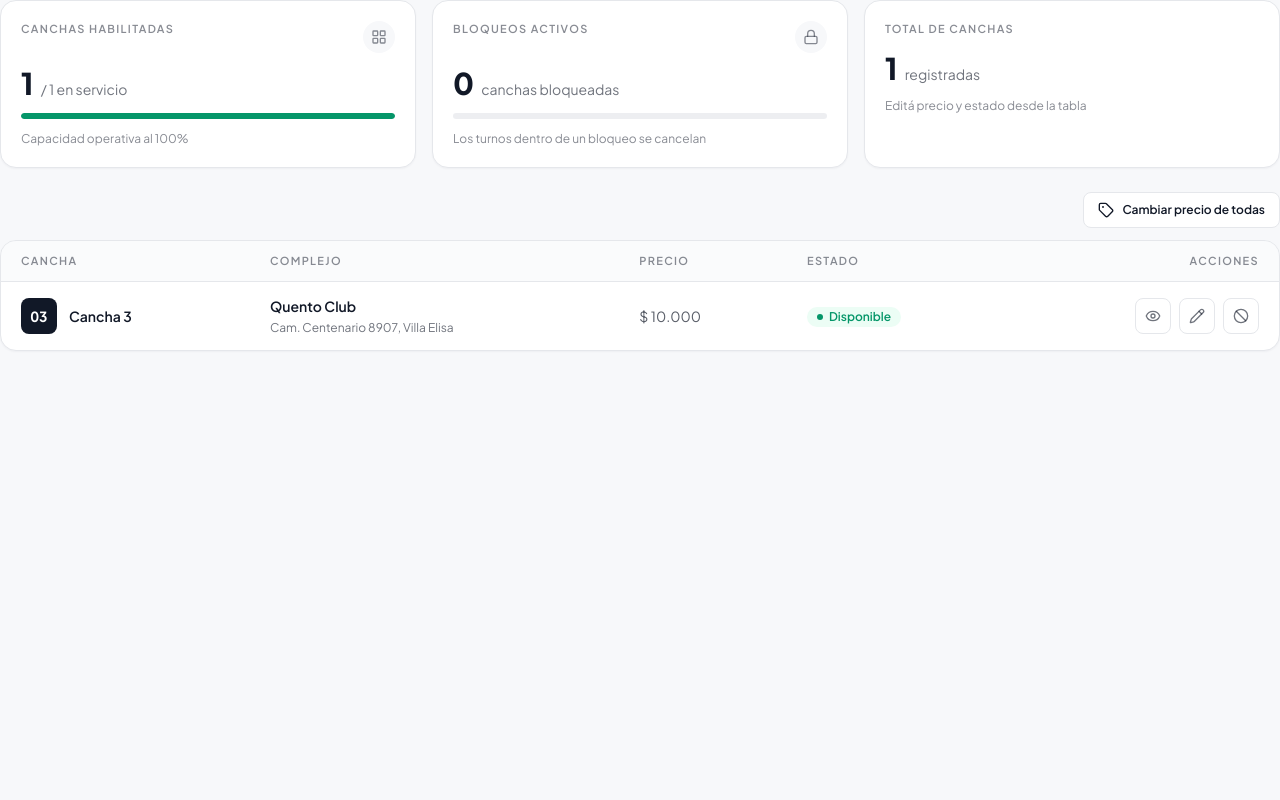
Test: CourtsTable › programa un bloqueo a futuro sin cambiar el estado actual de la cancha
Click the button named "Poner fuera de servicio la cancha 3": (1241, 316) [1223,298,1259,334]
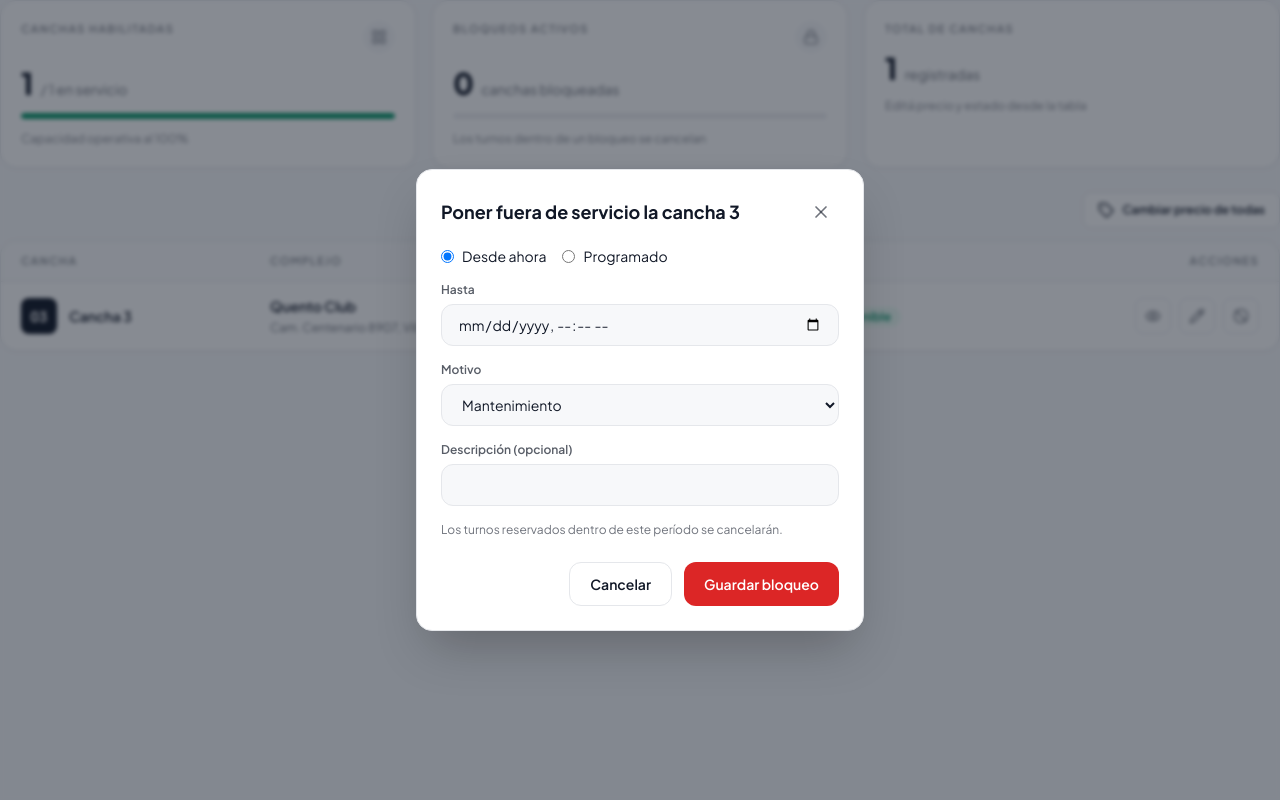
Click the radio button labelled "Programado": (569, 256) [562,250,575,262]
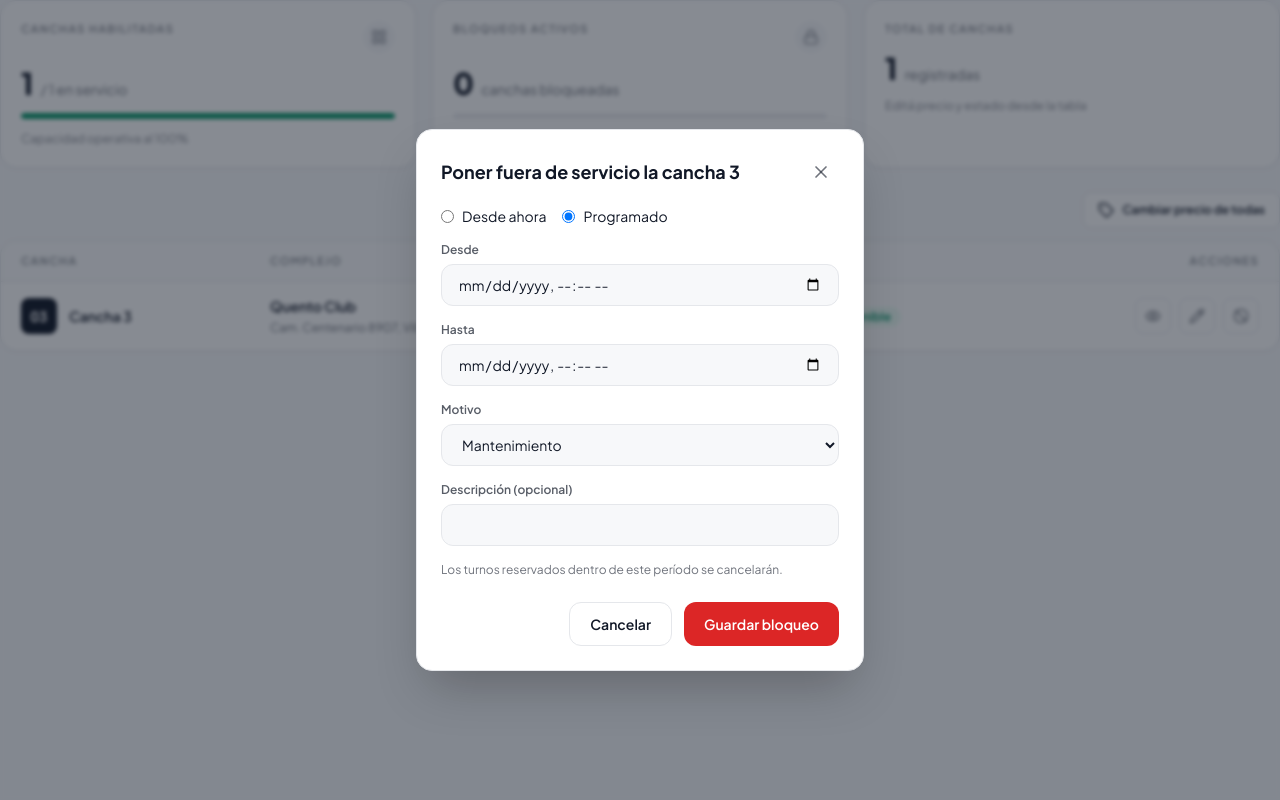
In the field labelled "Desde": (640, 285) [441,264,839,306], type "2099-01-01T09:00"
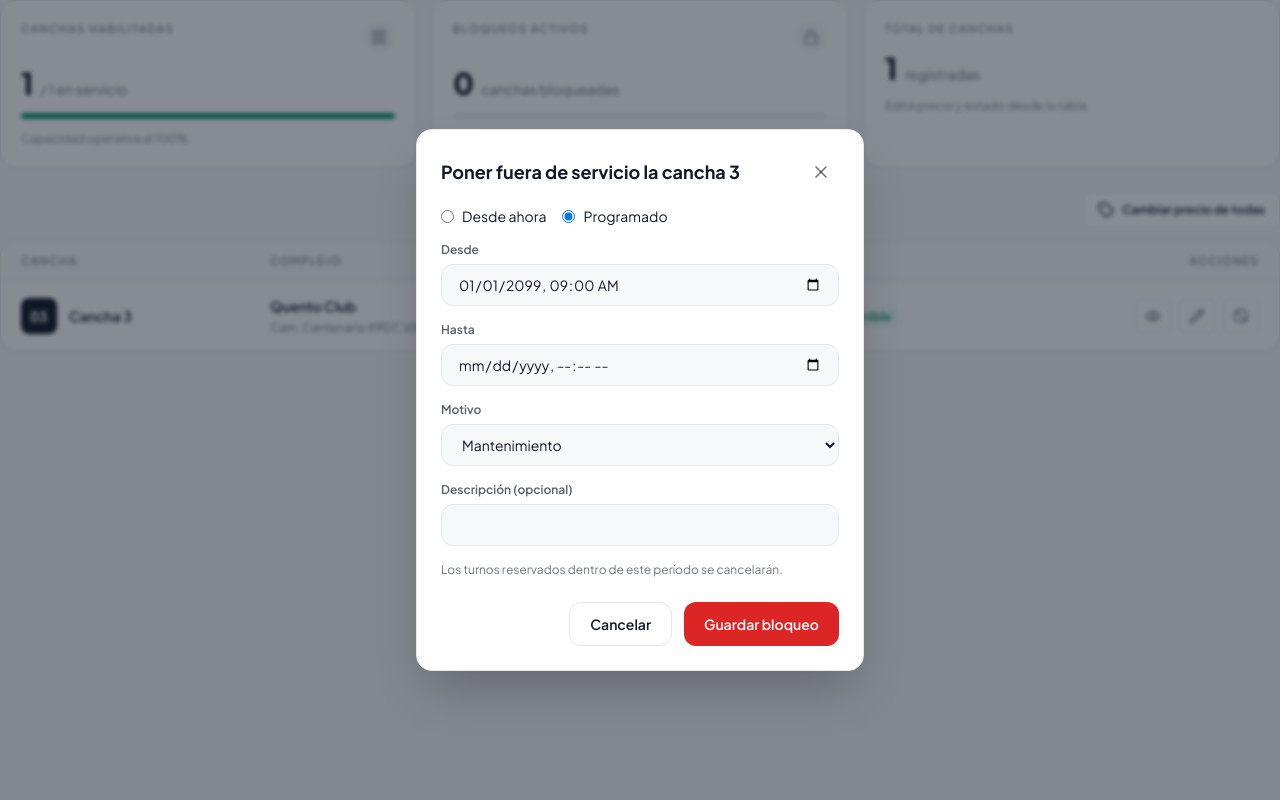
In the field labelled "Hasta": (640, 365) [441,344,839,386], type "2099-01-01T12:00"
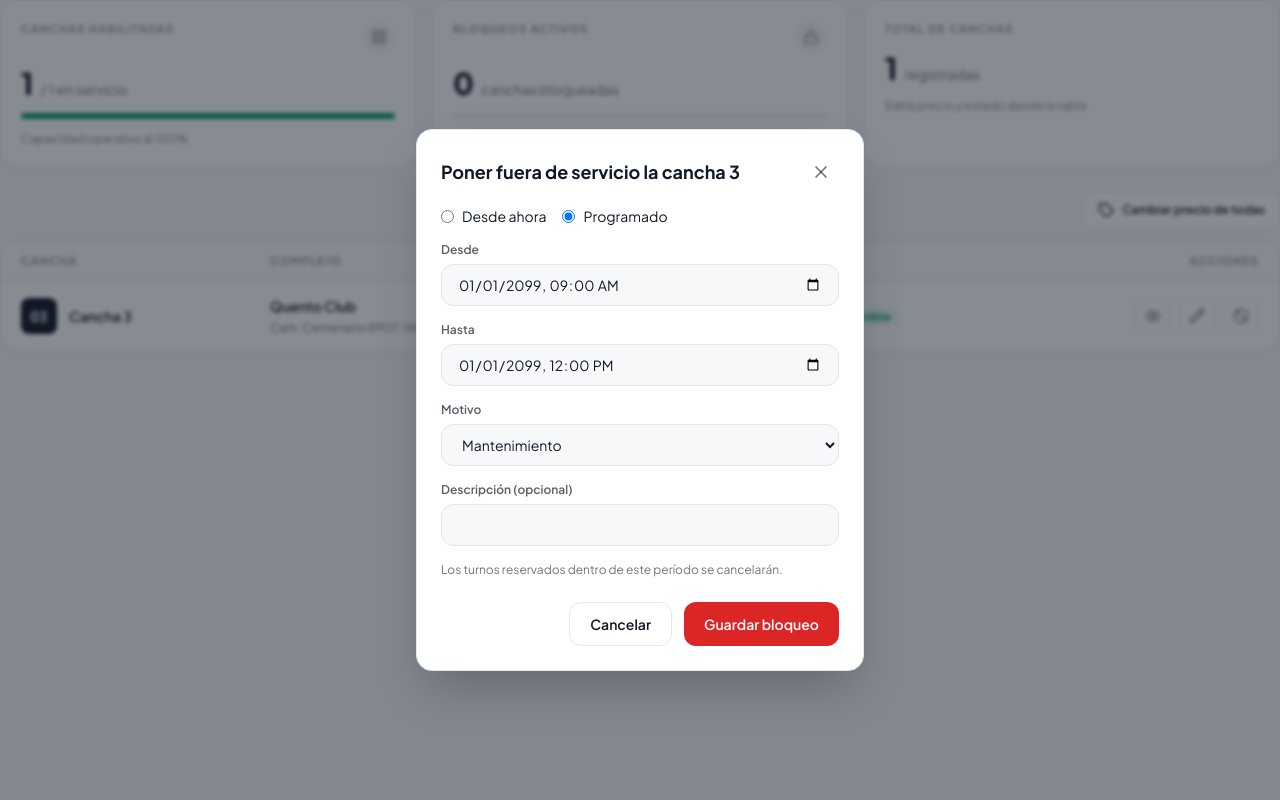
Select "Día libre" in the dropdown labelled "Motivo": (640, 445) [441,424,839,466]
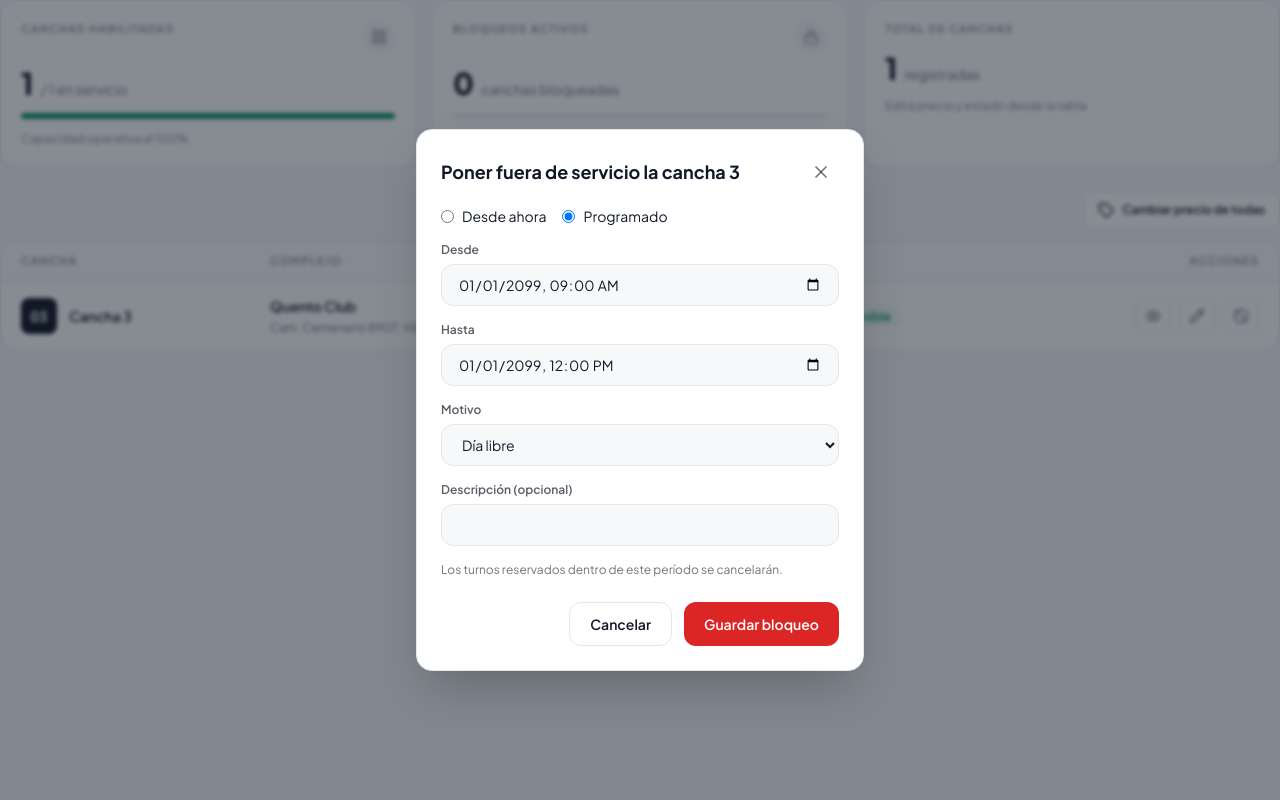
Click the button "Guardar bloqueo": (762, 624) [684,602,839,646]
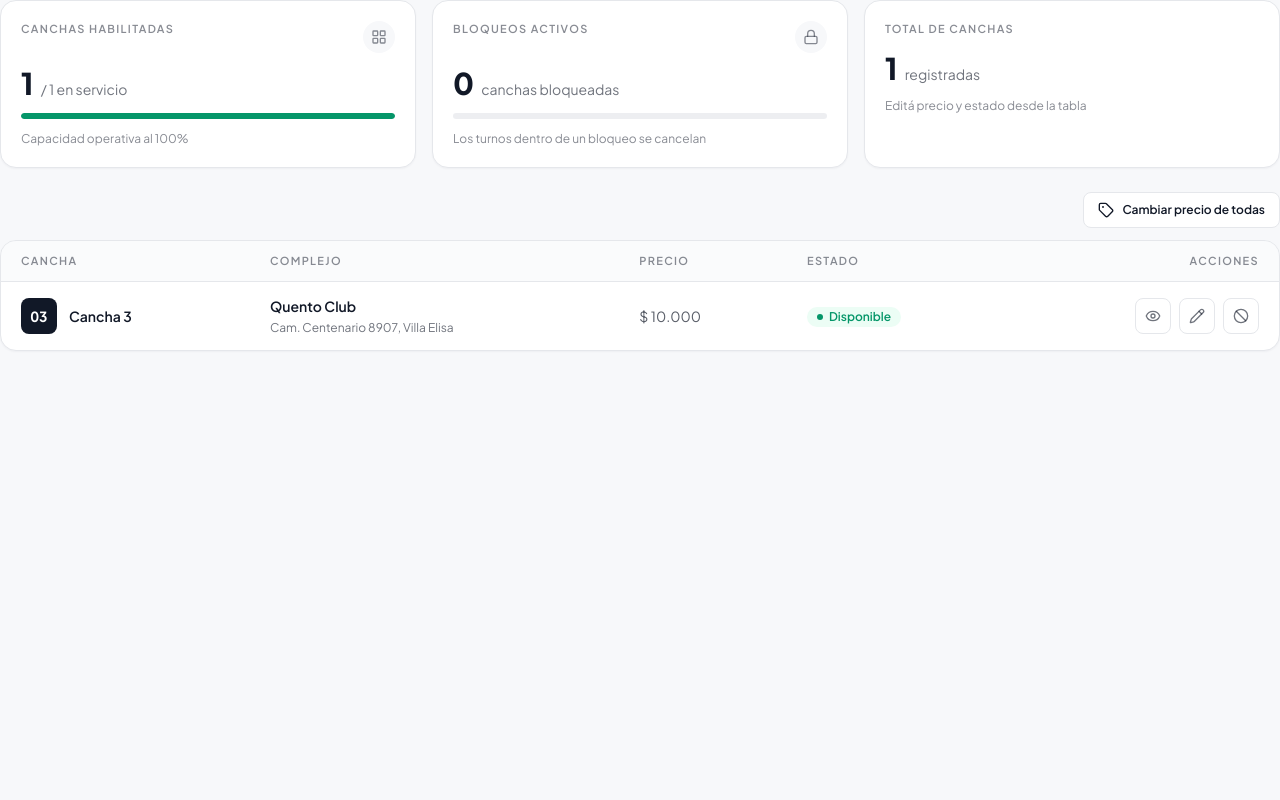
Expected: the text "Disponible" is shown, [807,307,901,327]
Now the button "Guardar bloqueo" is gone
